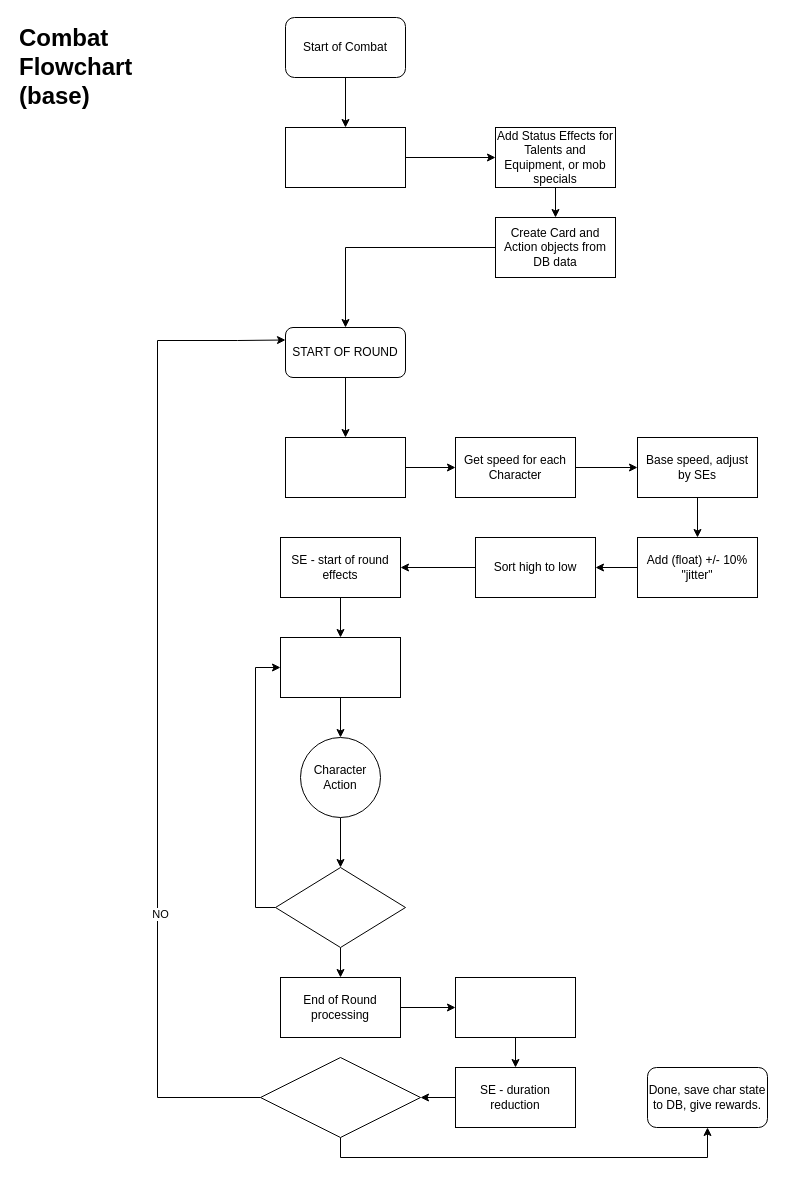
Some shapes in this 785 by 1183 pixel diagram are drawn without their labels. The shapes that lost their labels are listed below. From the top down, each one's centre as x and y in pixels, then its label:
the point at 345,157: Load Character Data and Decks
the point at 345,467: Generate Turn Order
the point at 340,667: Process Next Character
the point at 340,907: Remaining Chars?
the point at 515,1007: SE - end of round effects
the point at 340,1097: End of Combat?
